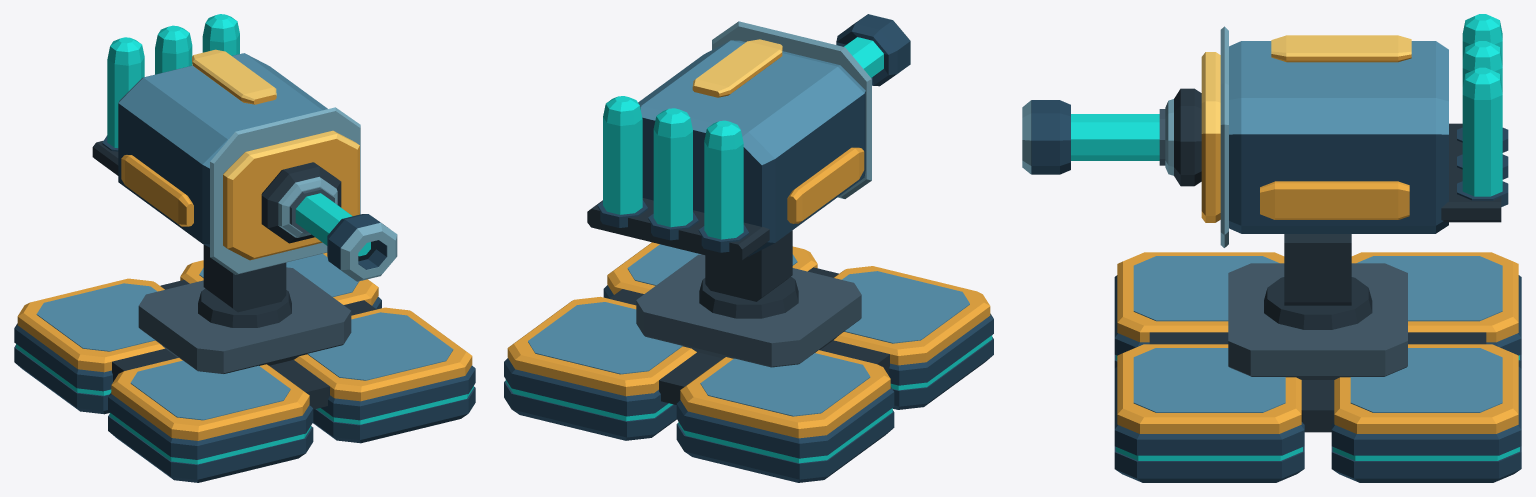
File: LaserLevel3.obj
3 renders of one model, left to right at view 1: azimuth 30°, elevation 25°; view 2: azimuth 150°, elevation 25°; view 3: azimuth 270°, elevation 25°, orthographic. The views are drawn at different scales.
Parts seen in each view (by area): view 1: CentralPlatform, GoldFaceBody, FaceGasket, InsetDeckLF, InsetDeckRF, ArmorTop, InsetDeckLB, GoldBorderLF, ArmorBody, ArmorBevel, GoldBorderRF, UpperArmorLF (+26 smaller); view 2: CentralPlatform, ArmorBody, InsetDeckLB, ArmorTop, InsetDeckRB, InsetDeckLF, ArmorBevel, GoldBorderLB, GoldBorderRB, UpperArmorLB, RearEnergyCell0, RearEnergyCell1 (+25 smaller); view 3: ArmorBody, CentralPlatform, ArmorBevel, ArmorTop, InsetDeckRF, InsetDeckRB, InsetDeckLF, InsetDeckLB, GoldBorderRF, GoldBorderRB, SideGoldArmor1, RearEnergyCell2 (+29 smaller).
Part boxes in pixels (box(x1,y1,x2,y2)): CentralPlatform: box(138, 267, 351, 373); GoldFaceBody: box(223, 139, 359, 260); FaceGasket: box(210, 107, 360, 274); InsetDeckLF: box(130, 360, 290, 420); InsetDeckRF: box(307, 312, 453, 380); ArmorTop: box(144, 53, 322, 138); InsetDeckLB: box(36, 283, 157, 351); GoldBorderLF: box(111, 358, 309, 440); ArmorBody: box(118, 103, 209, 247); ArmorBevel: box(118, 53, 327, 168); GoldBorderRF: box(294, 307, 472, 401); UpperArmorLF: box(108, 392, 313, 459); CentralPlatform: box(636, 254, 861, 367); ArmorBody: box(642, 91, 865, 256); InsetDeckLB: box(700, 353, 870, 416); ArmorTop: box(641, 40, 837, 131); InsetDeckRB: box(528, 302, 682, 374); InsetDeckLF: box(842, 271, 969, 343); ArmorBevel: box(638, 40, 865, 164); GoldBorderLB: box(680, 350, 890, 438); GoldBorderRB: box(507, 296, 696, 396); UpperArmorLB: box(676, 386, 894, 458); RearEnergyCell0: box(704, 120, 743, 239); RearEnergyCell1: box(653, 108, 692, 227); ArmorBody: box(1229, 134, 1448, 233); CentralPlatform: box(1228, 263, 1407, 379); ArmorBevel: box(1229, 41, 1448, 134); ArmorTop: box(1241, 41, 1435, 97); InsetDeckRF: box(1133, 348, 1285, 412); InsetDeckRB: box(1350, 348, 1502, 412); InsetDeckLF: box(1133, 256, 1279, 321); InsetDeckLB: box(1356, 256, 1502, 321); GoldBorderRF: box(1117, 344, 1301, 433); GoldBorderRB: box(1334, 344, 1518, 433); SideGoldArmor1: box(1260, 181, 1409, 219); RearEnergyCell2: box(1462, 67, 1502, 196).
Bounding box in the file's own units: 2.18 × 2.1 × 2.67.
